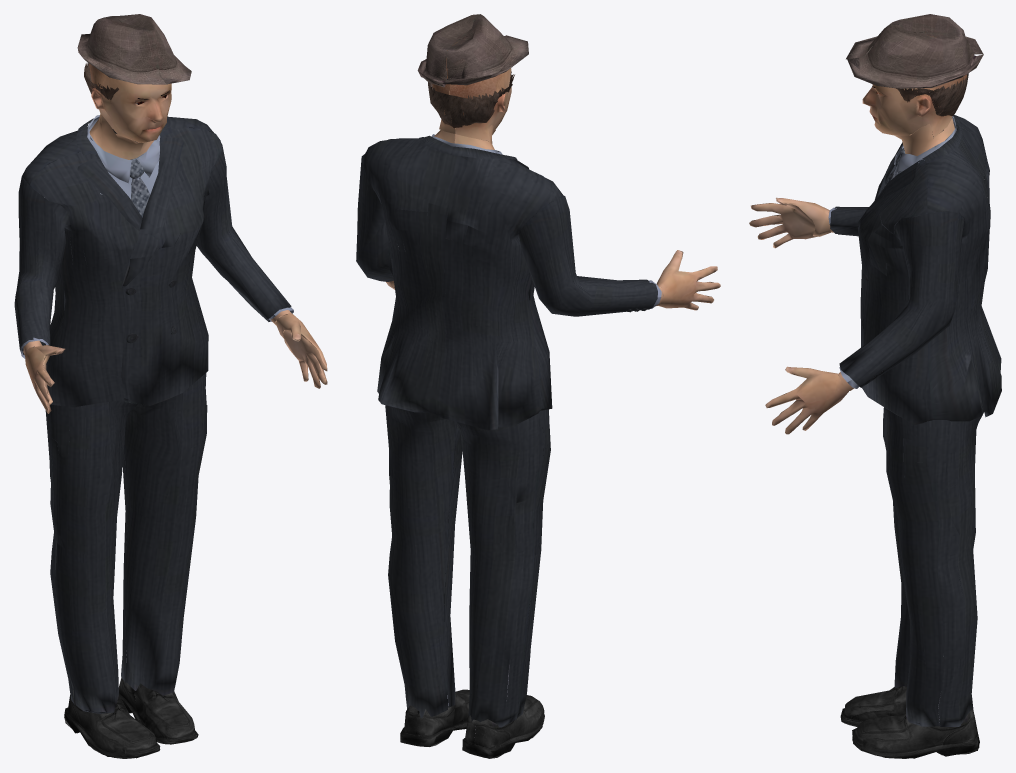
3 views of the same model, side by side, from view 1: azimuth 30°, elevation 25°; view 2: azimuth 150°, elevation 25°; view 3: azimuth 270°, elevation 25° (orthographic).
Parts seen in each view (by area): view 1: Modell; view 2: Modell; view 3: Modell.
Boxes of the visible parts, left/top/right/bottom form: Modell: left=14, top=14, right=327, bottom=758; Modell: left=356, top=14, right=720, bottom=758; Modell: left=749, top=14, right=1001, bottom=758.
Size of the model in its own units: 0.7703 by 1.78 by 0.5698.
7 materials, 7 textured.
